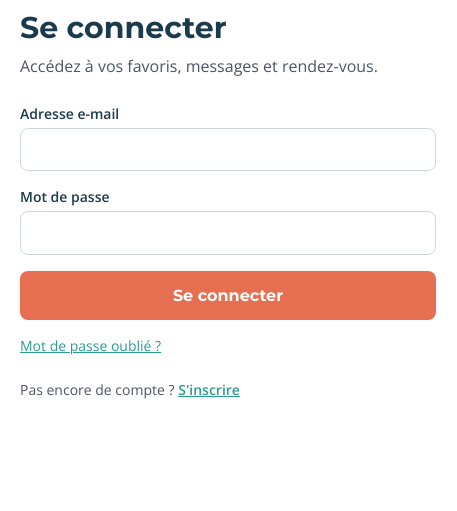
Scenario: Connexion (cas M9) et second facteur › affiche l’erreur de l’API et propose de renvoyer l’activation
Type "alice.benali@mail.be" into the field labelled "Adresse e-mail".
click(228, 149); type("alice.benali@mail.be")  # box [20,128,436,171]
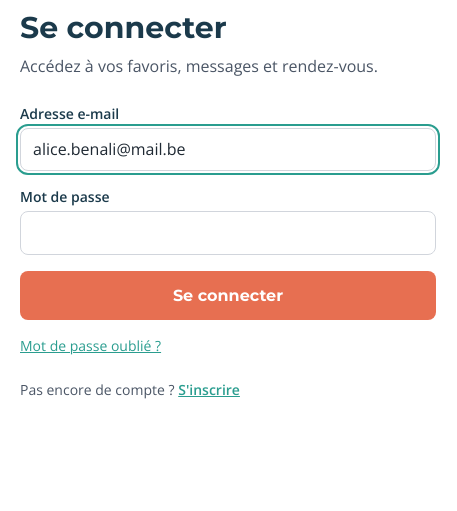
Type "password" into the password field labelled "Mot de passe".
click(228, 233); type("password")  # box [20,211,436,255]
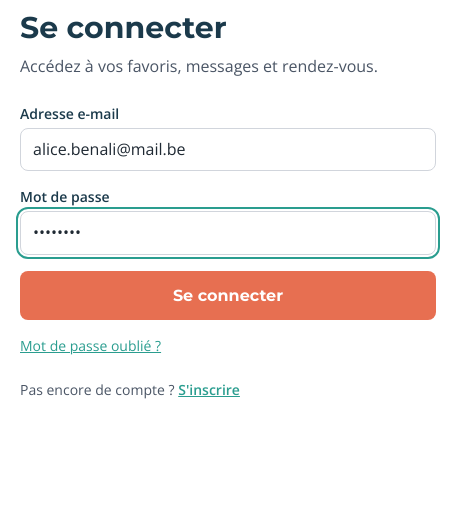
Click the button "Se connecter".
click(228, 296)  # box [20,271,436,320]
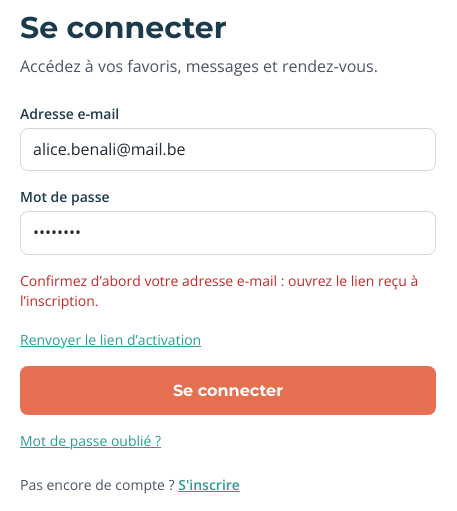
Expected: the message shows "Confirmez d’abord", [20,271,418,310]
Expected: the button "Renvoyer le lien d’activation" is shown, [20,330,201,350]
